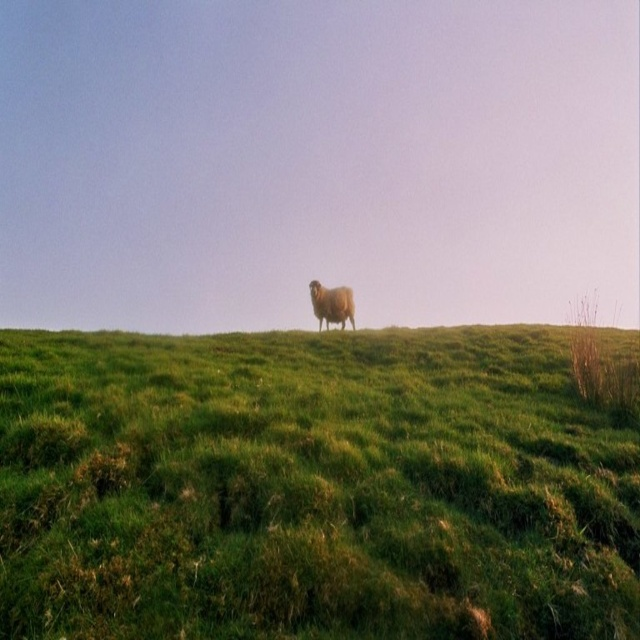Sheep: (308, 282, 357, 330)
